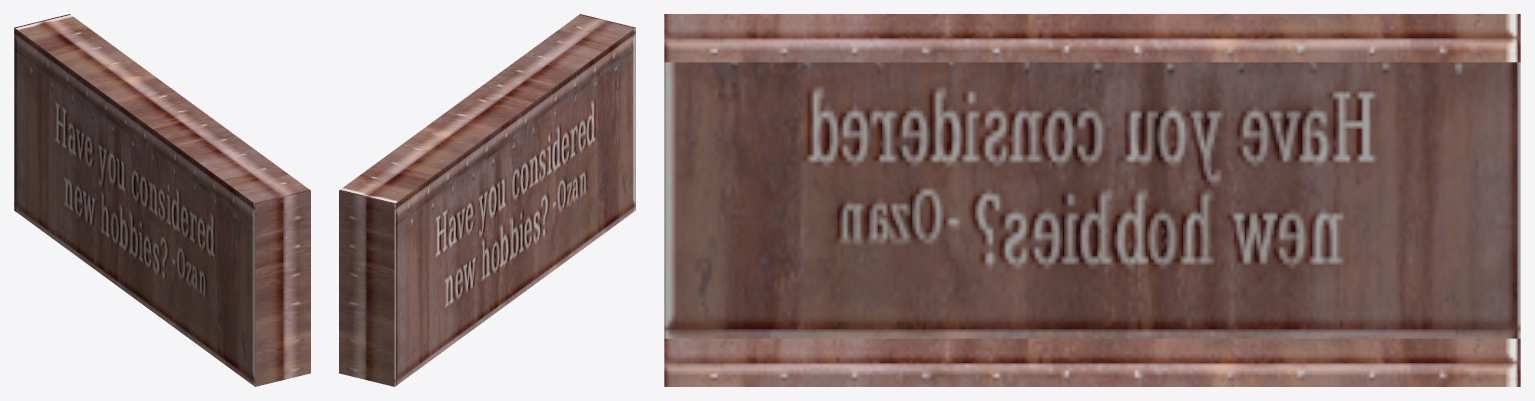
The model's file is ozan_considernewhobbies.fbx.
3 views of the same model, side by side, from view 1: azimuth 30°, elevation 25°; view 2: azimuth 150°, elevation 25°; view 3: azimuth 270°, elevation 25° (orthographic). The views are drawn at different scales.
Visible parts, largest first — view 1: Bazaar Complex Easteregg; view 2: Bazaar Complex Easteregg; view 3: Bazaar Complex Easteregg.
Boxes of the visible parts, left/top/right/bottom form: Bazaar Complex Easteregg: left=14, top=14, right=310, bottom=386; Bazaar Complex Easteregg: left=339, top=14, right=635, bottom=386; Bazaar Complex Easteregg: left=664, top=14, right=1520, bottom=386.
Bounding box in the file's own units: 0.3361 × 1.06 × 2.52.
